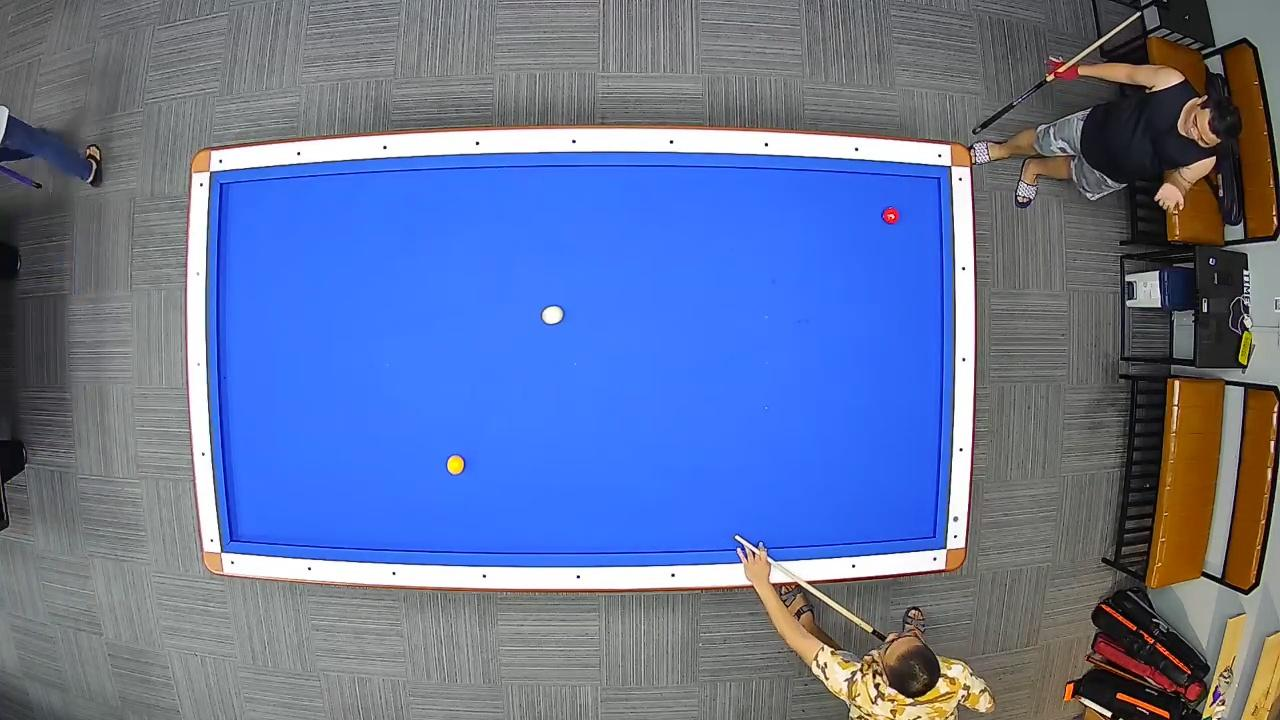Red: (880, 206, 901, 226)
White: (541, 304, 565, 328)
Yellow: (445, 452, 467, 477)
